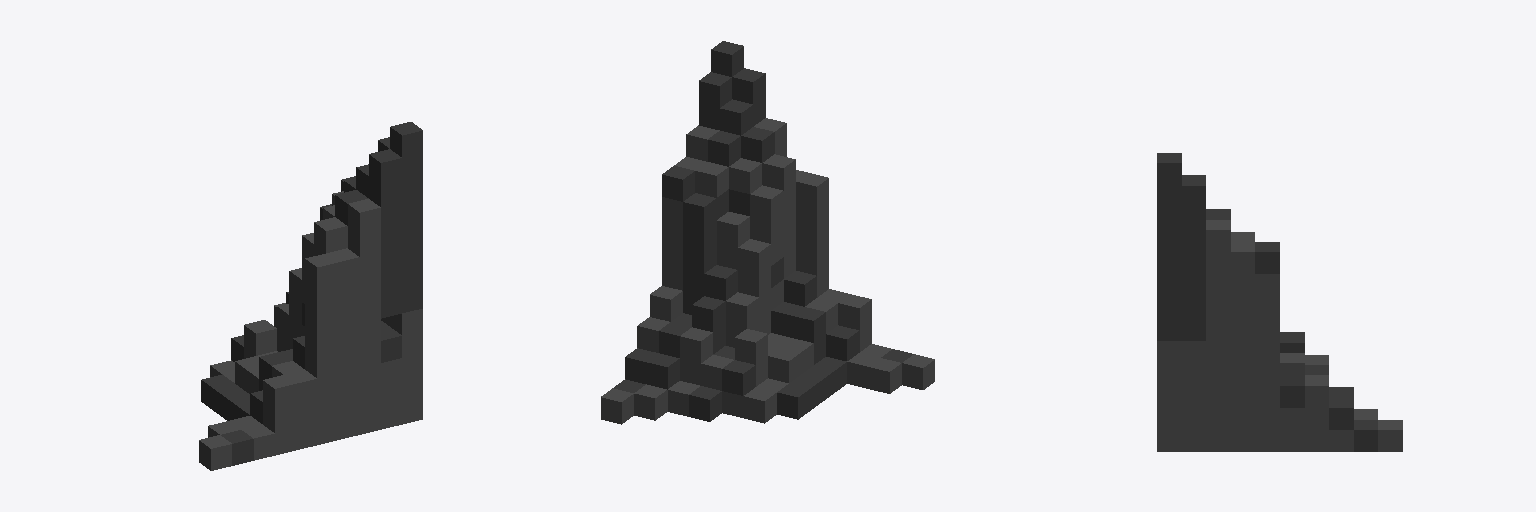
The picture shows the model from 3 angles: view 1: azimuth 30°, elevation 25°; view 2: azimuth 150°, elevation 25°; view 3: azimuth 270°, elevation 25°; orthographic projection.
Visible parts, largest first — view 1: object 1; view 2: object 1; view 3: object 1.
Boxes of the visible parts, <box> form: object 1: <box>199,122,422,470</box>; object 1: <box>601,41,934,424</box>; object 1: <box>1157,153,1402,451</box>.
Bounding box in the file's own units: 1 × 1.3 × 1.
Materials: 1 (1 with a texture image).